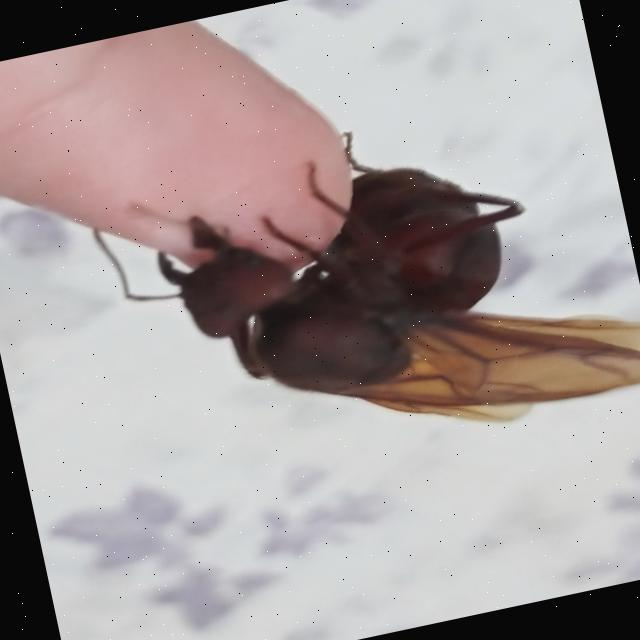Alive-Female-Alate: (82, 77, 640, 502)
